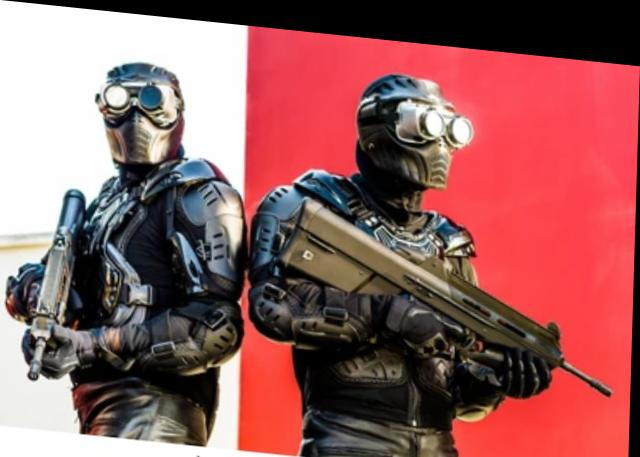other: (250, 49, 484, 456), (57, 52, 252, 439)
